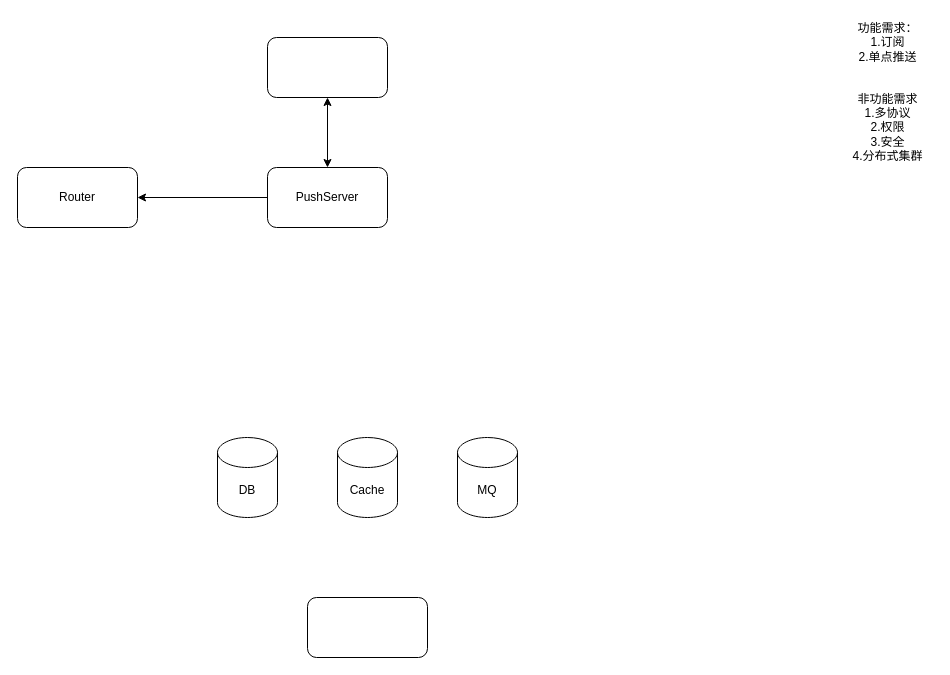
Some shapes in this 950 by 675 pixel diagram are drawn without their labels. Each missing label, with the centre of its shape:
"Gateway" belongs at point (327, 67).
"PushAdmin" belongs at point (367, 627).
